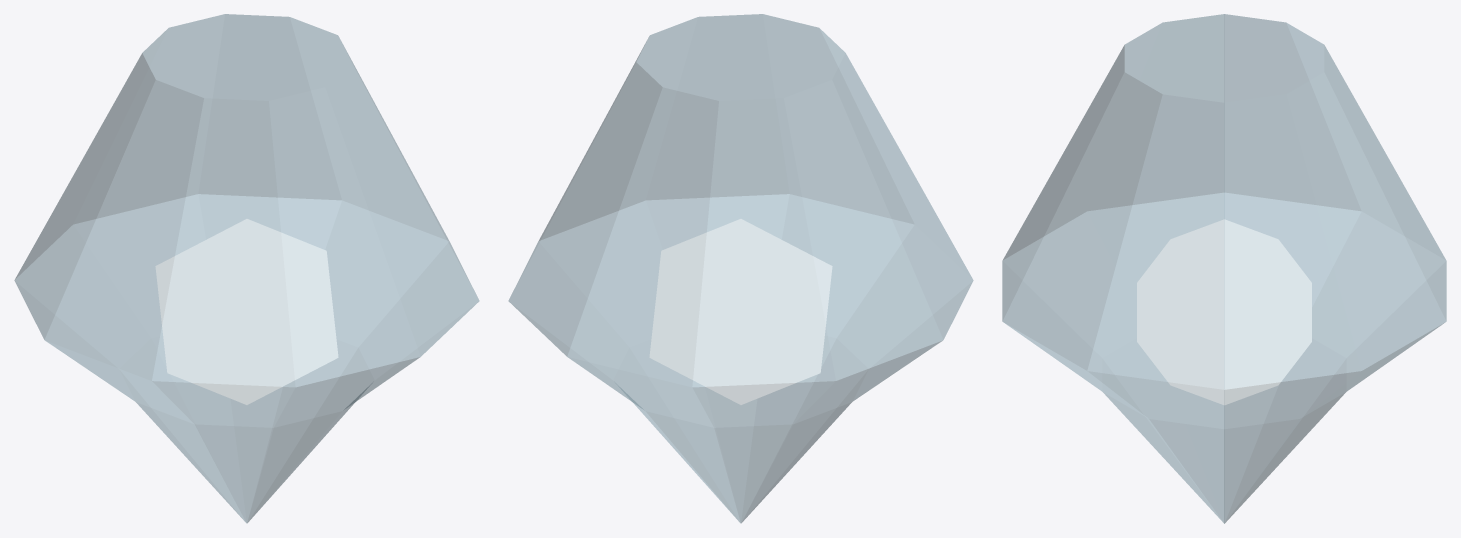
The model's file is gem.glb.
3 renders of one model, left to right at view 1: azimuth 30°, elevation 25°; view 2: azimuth 150°, elevation 25°; view 3: azimuth 270°, elevation 25°, orthographic.
Visible parts, largest first — view 1: Gem; view 2: Gem; view 3: Gem.
Boxes of the visible parts, x1,y1,x2,y2 form: Gem: (14,14,479,523); Gem: (508,14,973,523); Gem: (1002,14,1446,523).
Size of the model in its own units: 0.1 by 0.11 by 0.0951.
